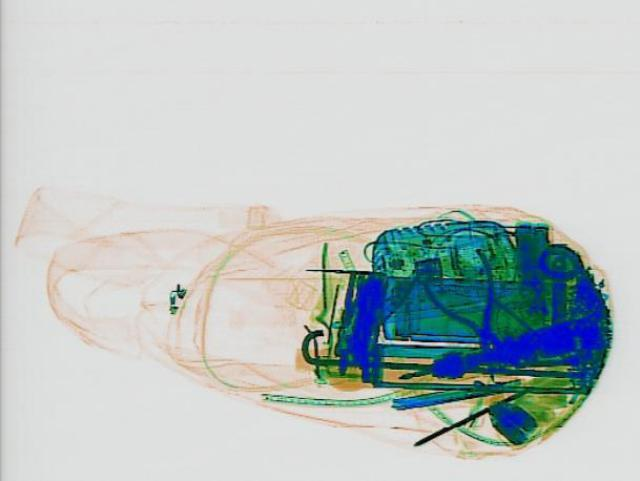Pliers: (410, 247, 524, 360)
